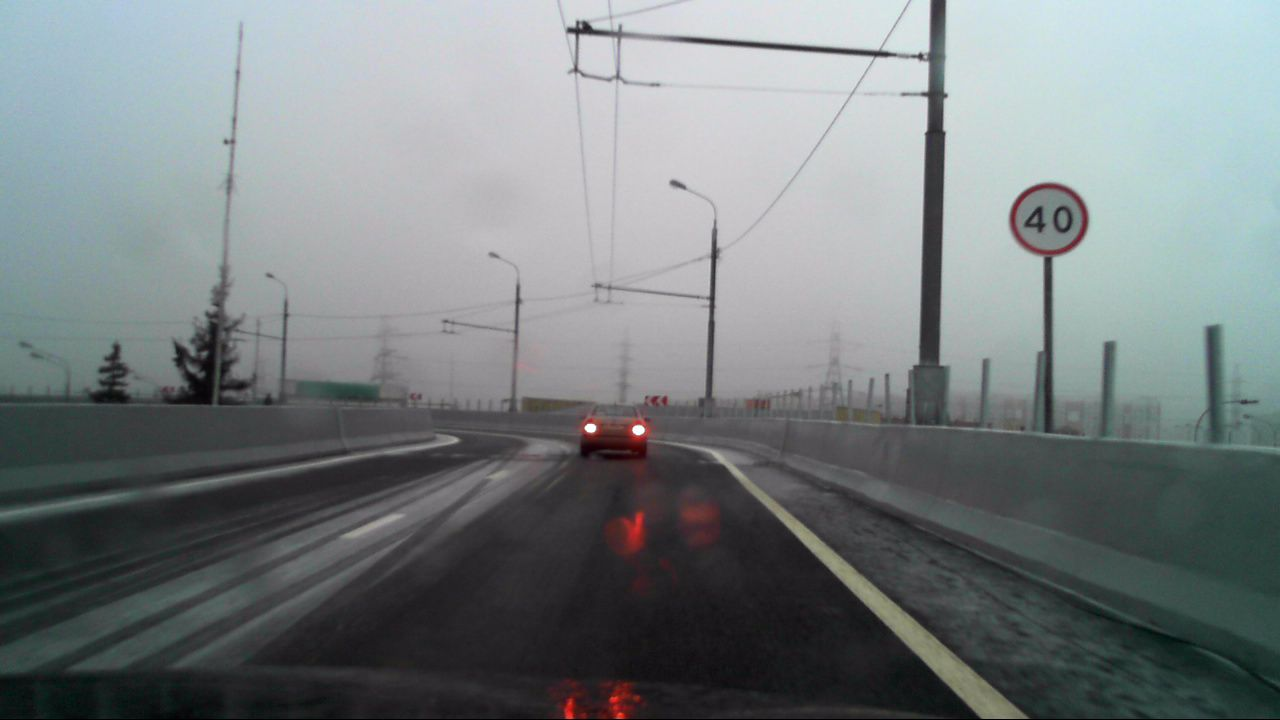speed_warning_40: (1008, 180, 1090, 256)
